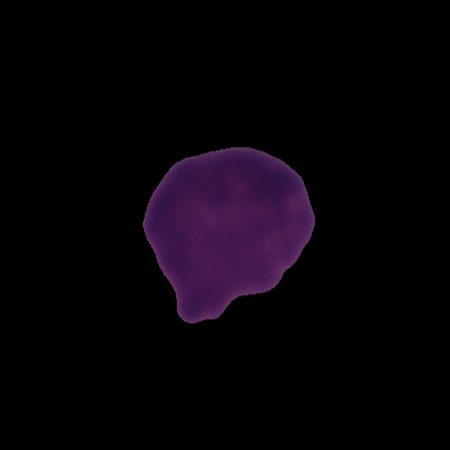HEM: (140, 143, 318, 324)
